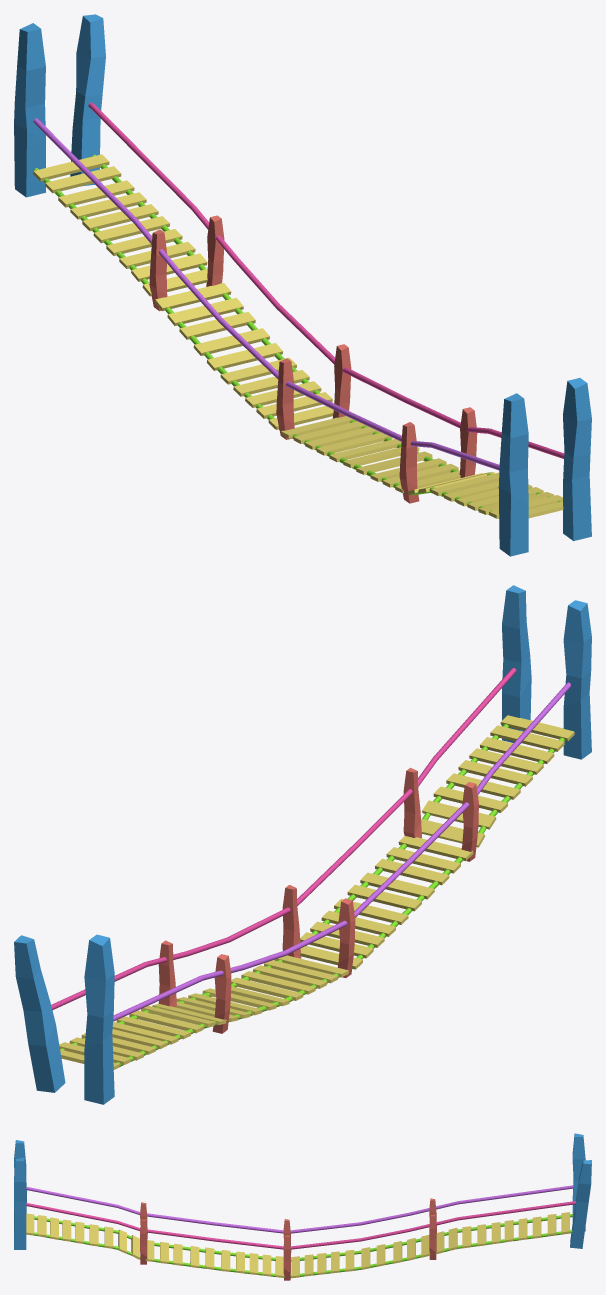
Rendered from Bridge.fbx.
The picture shows the model from 3 angles, top to bottom: view 1: azimuth 30°, elevation 25°; view 2: azimuth 150°, elevation 25°; view 3: azimuth 270°, elevation 25°; orthographic projection. The views are drawn at different scales.
Parts seen in each view (by area): view 1: Cube.004, Cube.003, Cube.047, Cylinder.003, Cylinder.002, Cylinder; view 2: Cube.004, Cube.003, Cube.047, Cylinder.003, Cylinder.002, Cylinder; view 3: Cube.004, Cube.003, Cylinder.002, Cylinder.003, Cylinder, Cube.047.
Boxes of the visible parts, x1,y1,x2,y2 form: Cube.004: (33,154,563,518); Cube.003: (14,14,591,556); Cube.047: (149,215,477,503); Cylinder.003: (33,118,499,470); Cylinder.002: (88,102,564,458); Cylinder: (34,154,561,518); Cube.004: (59,715,574,1069); Cube.003: (14,585,591,1104); Cube.047: (158,767,478,1033); Cylinder.003: (113,682,570,1021); Cylinder.002: (51,668,516,1010); Cylinder: (60,724,564,1066); Cube.004: (26,1212,569,1278); Cube.003: (14,1133,591,1249); Cylinder.002: (26,1201,575,1249); Cylinder.003: (26,1185,573,1233); Cylinder: (34,1214,572,1277); Cube.047: (140,1198,436,1280).
Bounding box in the file's own units: 242 × 584 × 2377.
